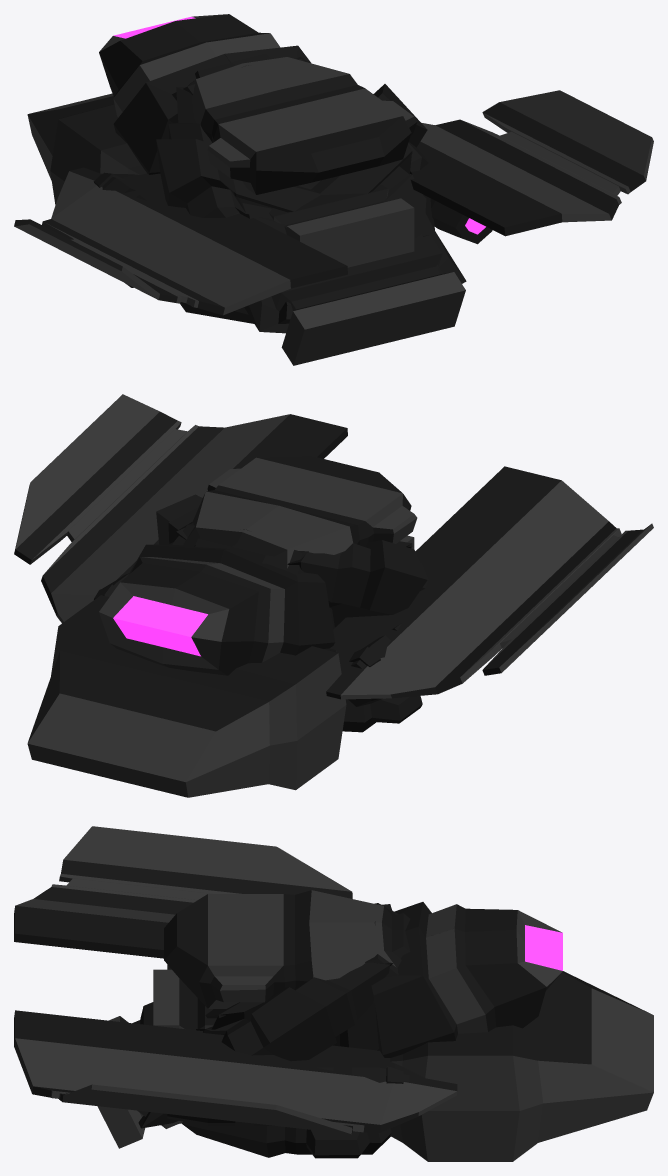
The model's file is spaceship 5 black.fbx.
The picture shows the model from 3 angles, top to bottom: view 1: azimuth 30°, elevation 25°; view 2: azimuth 150°, elevation 25°; view 3: azimuth 270°, elevation 25°; orthographic projection.
Visible parts, largest first — view 1: Cube.009; view 2: Cube.009; view 3: Cube.009.
Part boxes in pixels (x1,y1,x2,y2): Cube.009: (14,14,653,365); Cube.009: (14,394,653,797); Cube.009: (14,826,653,1161).
Bounding box in the file's own units: 897 × 301 × 934.
